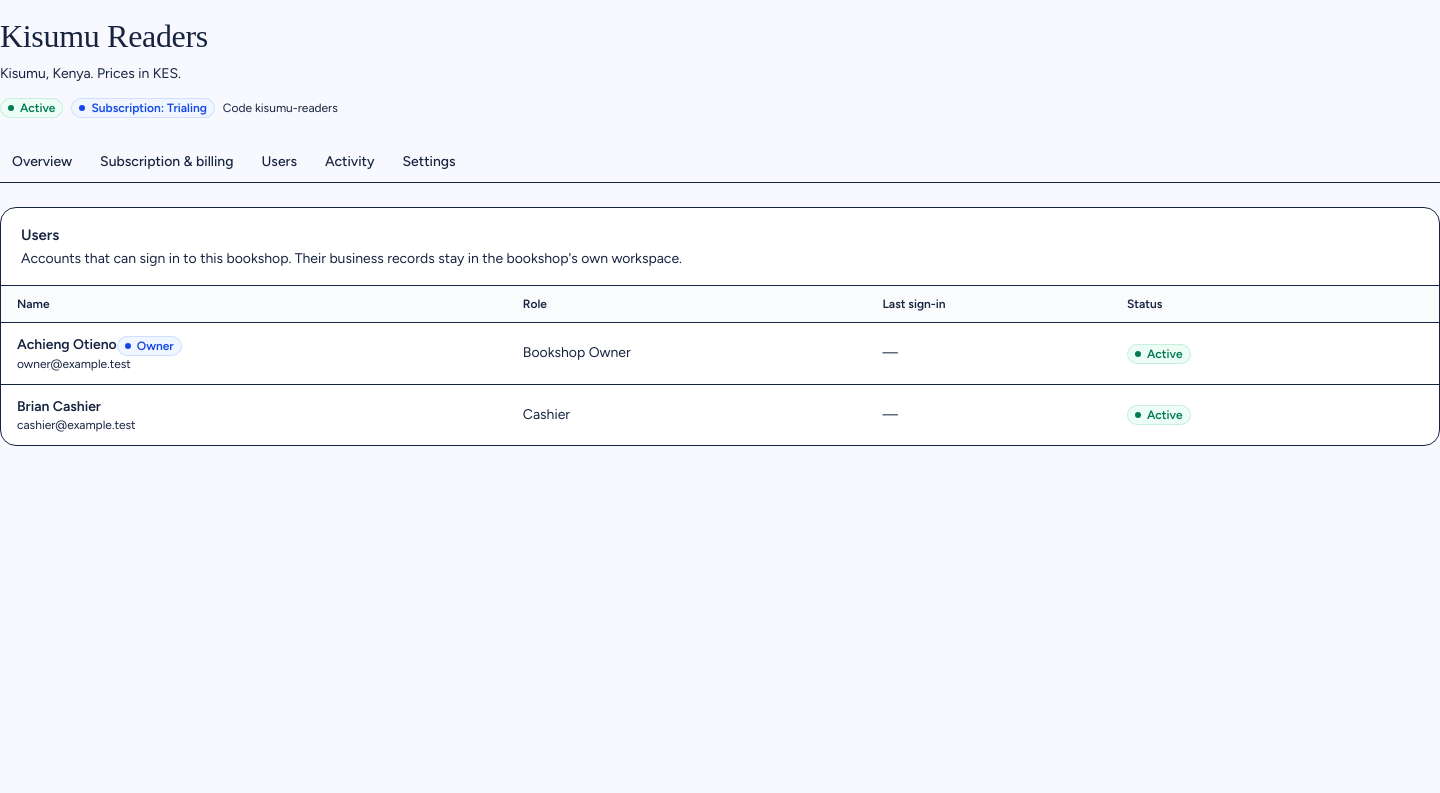
Scenario: Bookshop workspace › shows platform administrators a read-only workspace
Check: the text "Brian Cashier" is shown, box top-left (17, 398), bottom-right (101, 415)
Click the link "Subscription & billing": (167, 162) top-left (100, 153), bottom-right (234, 170)
(page scrolled)
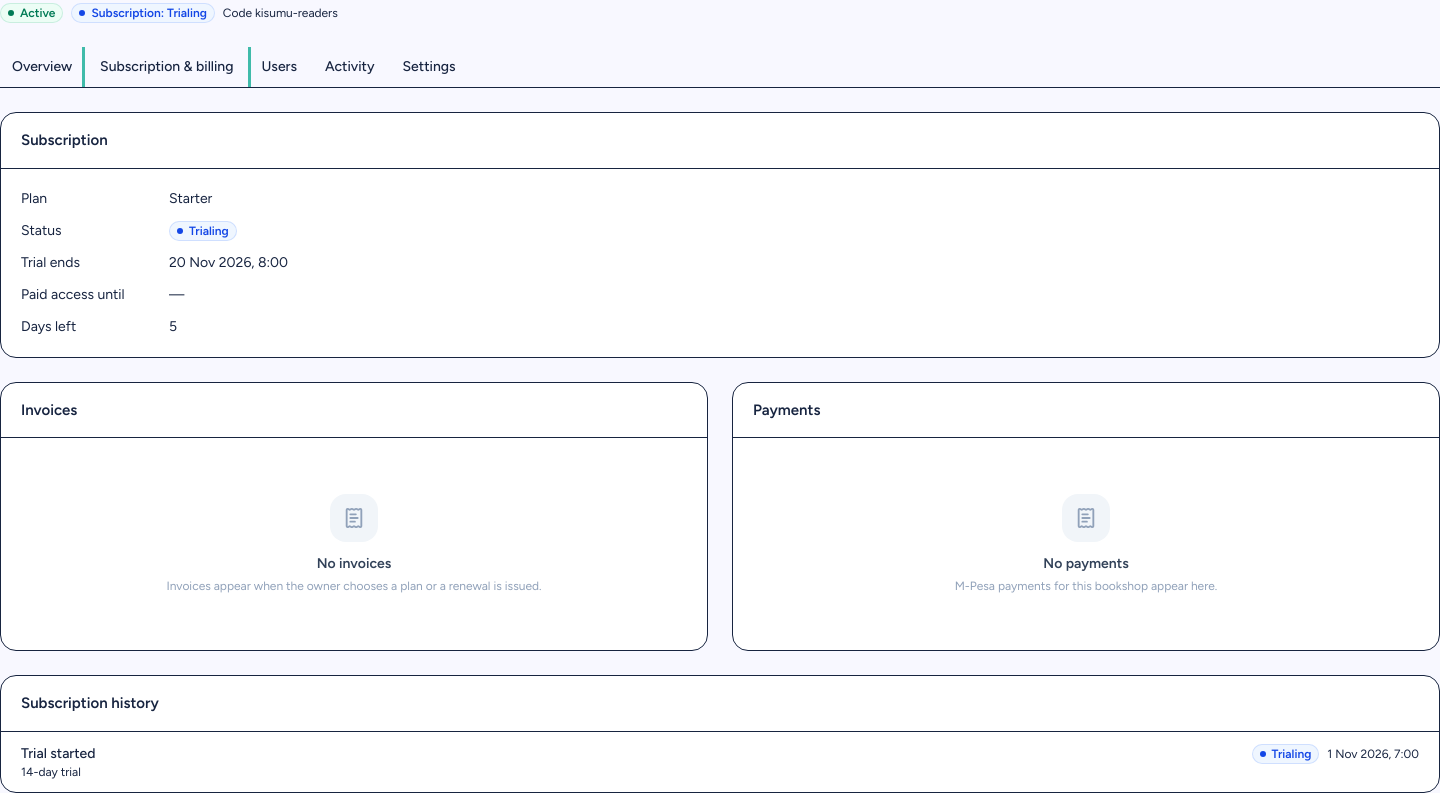
Check: the text "Trial started" is shown, box top-left (21, 745), bottom-right (96, 762)
